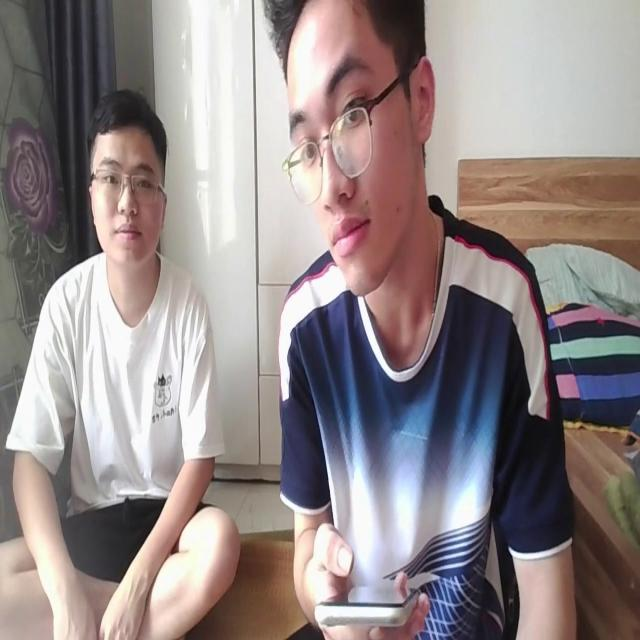phone: (314, 588, 409, 630)
student: (251, 6, 578, 640), (8, 75, 242, 640)
